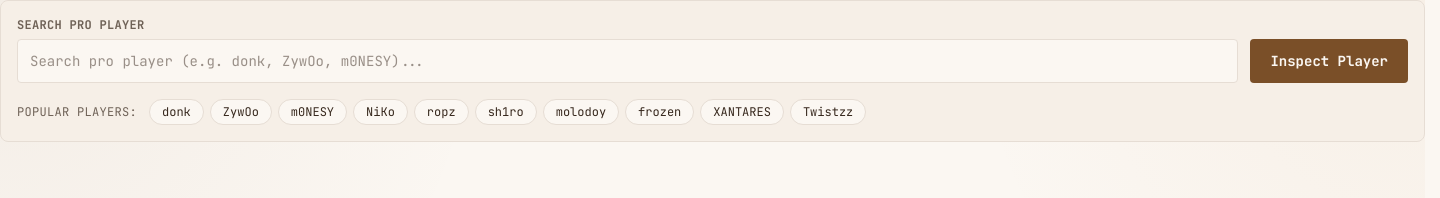
Cs2RadarPlayerSearch Component › accepts inline suggestion with Tab key
Type "zy" into the dropdown at {"x": 628, "y": 61}, box [17,39,1238,83]
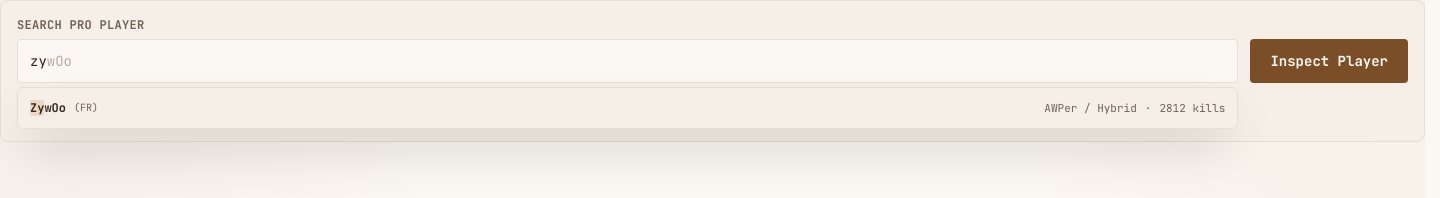
Press Tab in the dropdown, box [17,39,1238,83]
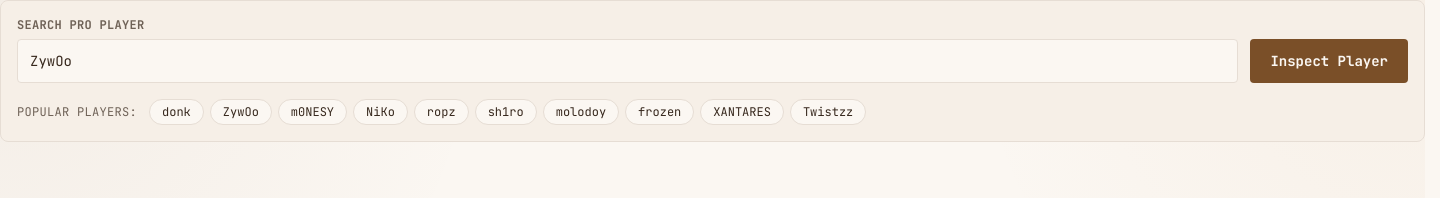
Now the dropdown holds "ZywOo", box [17,39,1238,83]
